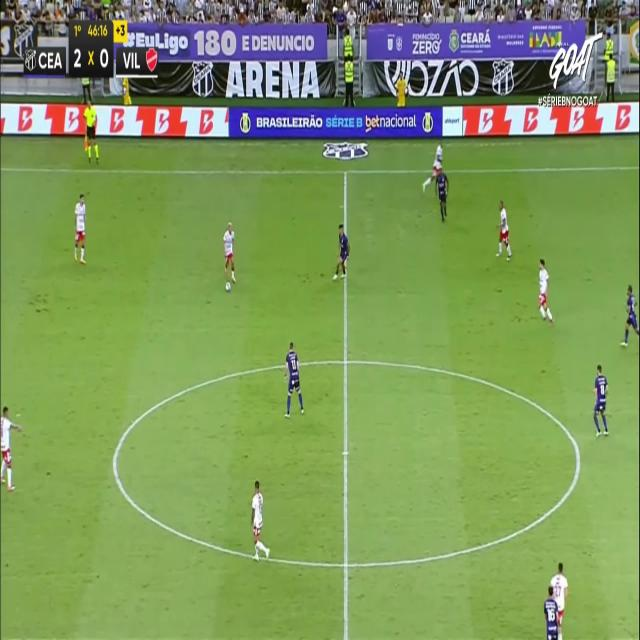ball: (225, 277, 233, 296)
player: (0, 404, 22, 490), (250, 479, 270, 561), (551, 558, 571, 640), (283, 341, 304, 418), (619, 284, 639, 346), (541, 582, 561, 640), (593, 364, 609, 436), (422, 141, 443, 195), (495, 199, 512, 261), (332, 223, 350, 280), (538, 258, 554, 322), (222, 220, 236, 284), (74, 193, 86, 264), (436, 168, 450, 224)
referee: (83, 100, 99, 164)
